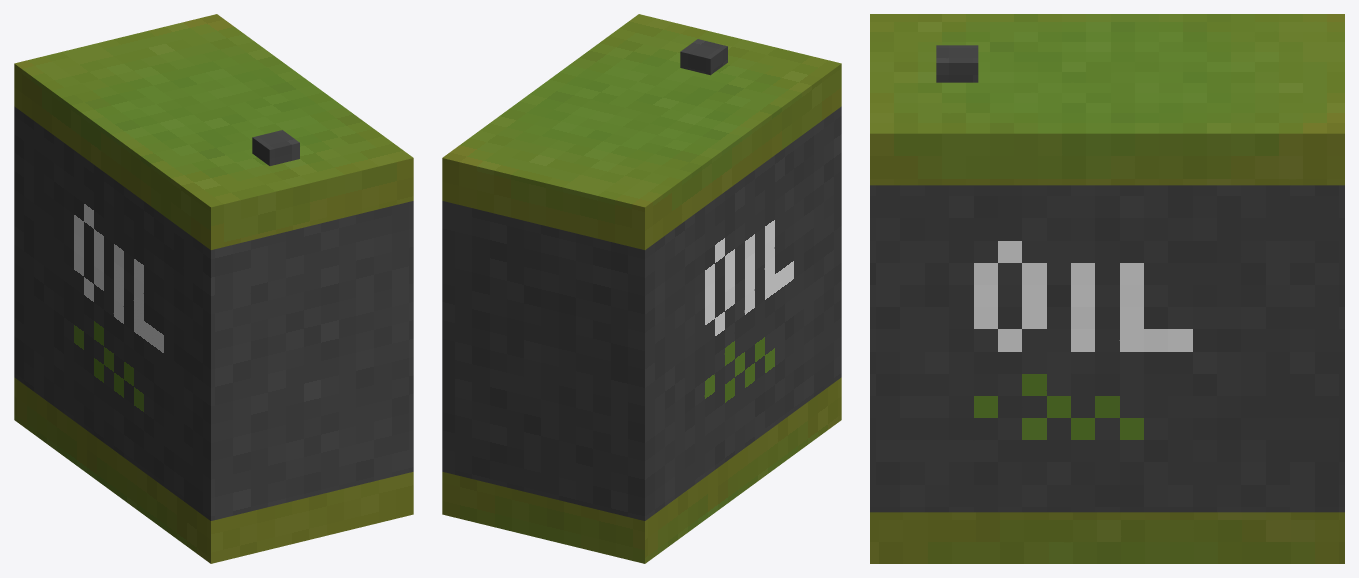
Rendered from OilCanister.fbx.
The picture shows the model from 3 angles, left to right: view 1: azimuth 30°, elevation 25°; view 2: azimuth 150°, elevation 25°; view 3: azimuth 270°, elevation 25°; orthographic projection. The views are drawn at different scales.
Parts seen in each view (by area): view 1: canister; view 2: canister; view 3: canister.
Part boxes in pixels (x1,y1,x2,y2): canister: [14, 14, 413, 563]; canister: [442, 14, 841, 563]; canister: [870, 14, 1344, 563].
Size of the model in its own units: 16.19 by 28.42 by 27.19.
